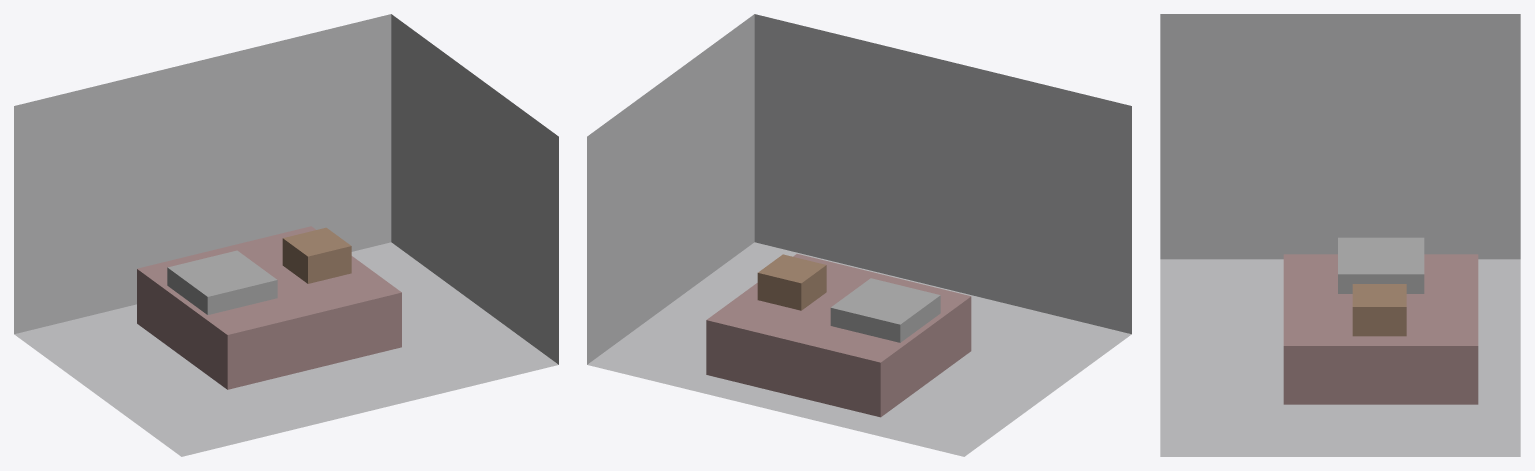
File: optimised_layout.glb
3 renders of one model, left to right at view 1: azimuth 30°, elevation 25°; view 2: azimuth 150°, elevation 25°; view 3: azimuth 270°, elevation 25°, orthographic. The views are drawn at different scales.
Visible parts, largest first — view 1: room, bed, wardrobe, chair; view 2: room, bed, wardrobe, chair; view 3: room, bed, wardrobe, chair.
Part boxes in pixels (x1,y1,x2,y2): room: (14, 14, 558, 456); bed: (137, 226, 401, 389); wardrobe: (167, 250, 277, 314); chair: (282, 227, 351, 283); room: (587, 14, 1131, 456); bed: (706, 254, 971, 417); wardrobe: (830, 278, 940, 342); chair: (757, 254, 826, 310); room: (1160, 14, 1520, 456); bed: (1283, 254, 1478, 404); wardrobe: (1338, 237, 1424, 293); chair: (1352, 284, 1406, 336).
Size of the model in its own units: 4.32 by 2.5 by 3.33.
